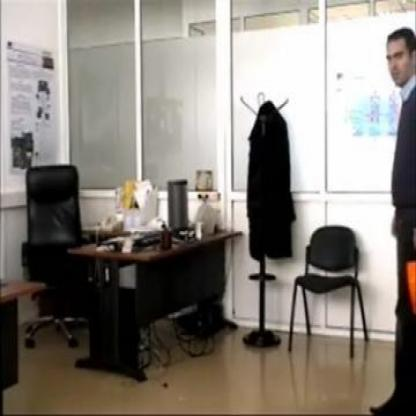other: (402, 253, 414, 315)
